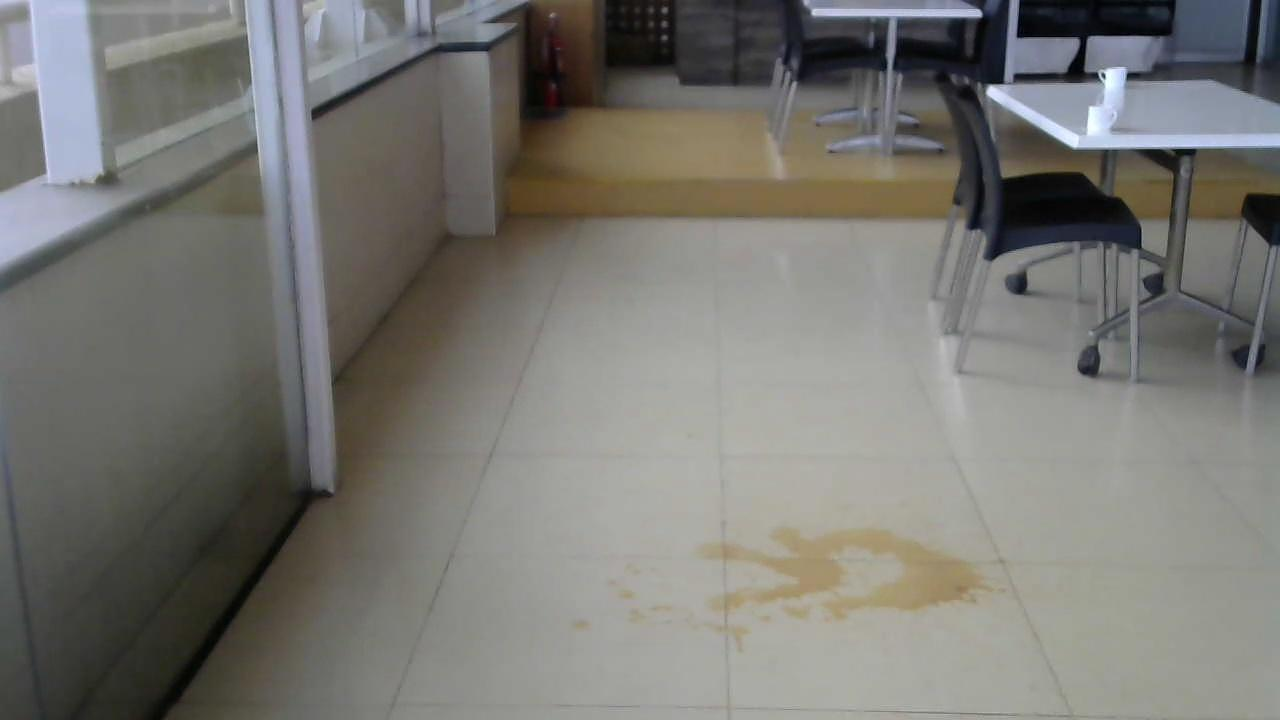dirty_floor: (590, 494, 1009, 669)
